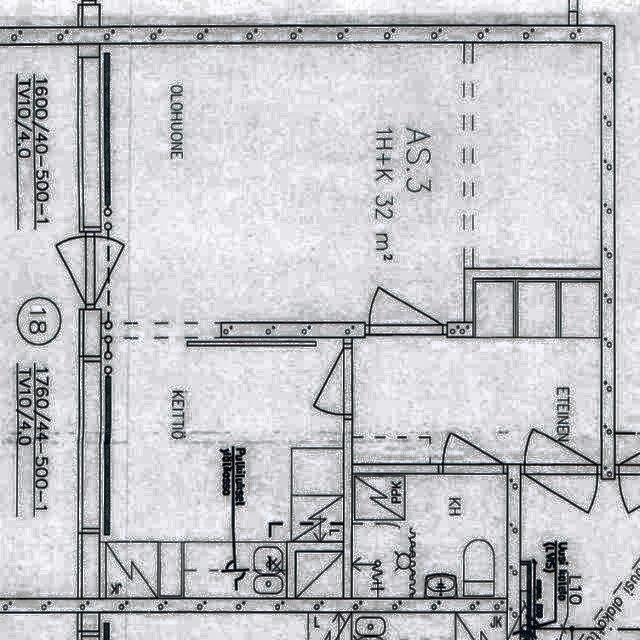room: (101, 43, 601, 323), (100, 338, 344, 598), (353, 279, 601, 464), (352, 474, 507, 598)
